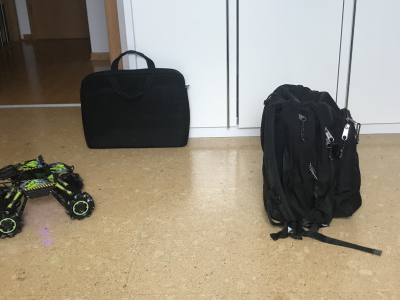remote control car: (1, 149, 96, 241)
